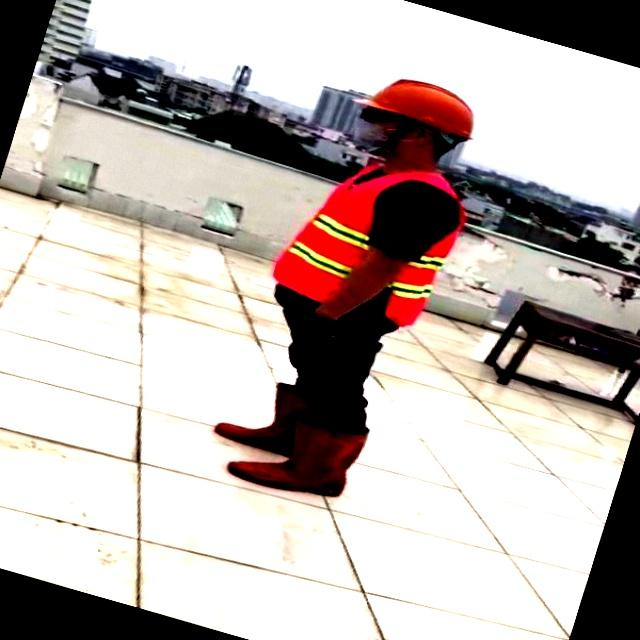helmet: (360, 73, 488, 141)
safety_vest: (274, 164, 470, 348)
